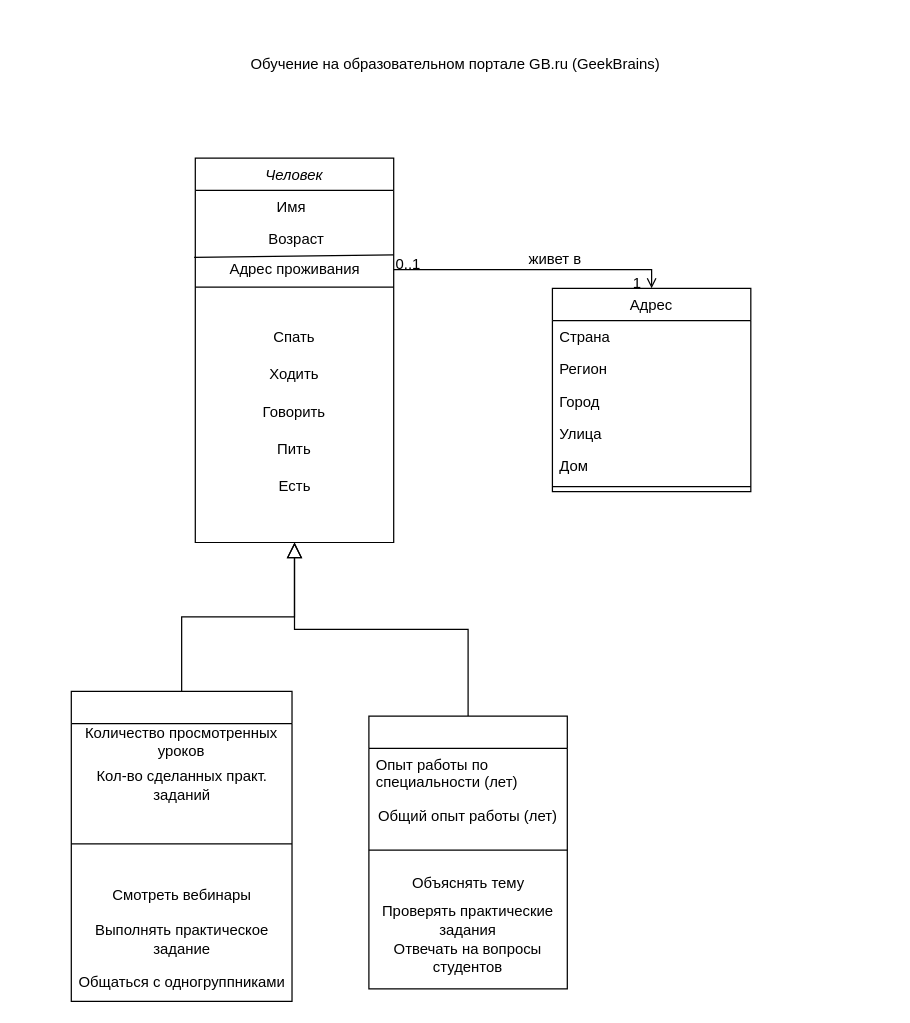
The diagram is 910 pixels wide and 1023 high, and some of its shapes have lost their labels. The box of each missing label's shape, as (x1, y1, x2, y2) in pixels:
Преподаватель: (368, 715, 567, 989)
Студент: (70, 690, 292, 1001)
